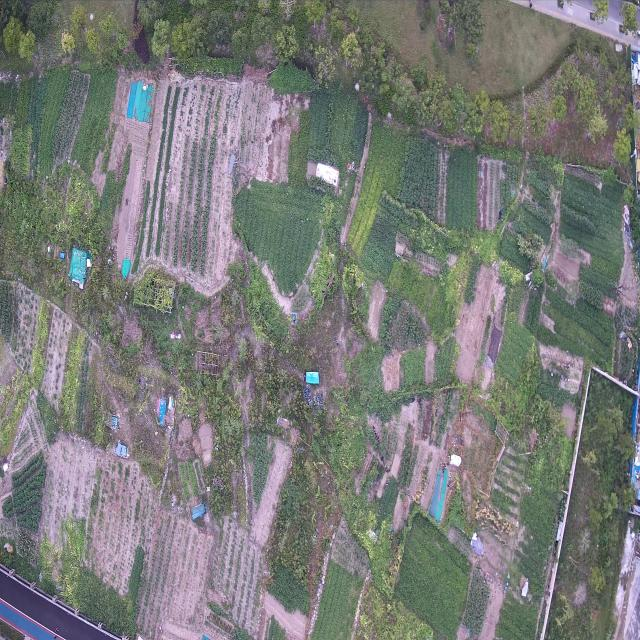UAV: (218, 150, 244, 185)
